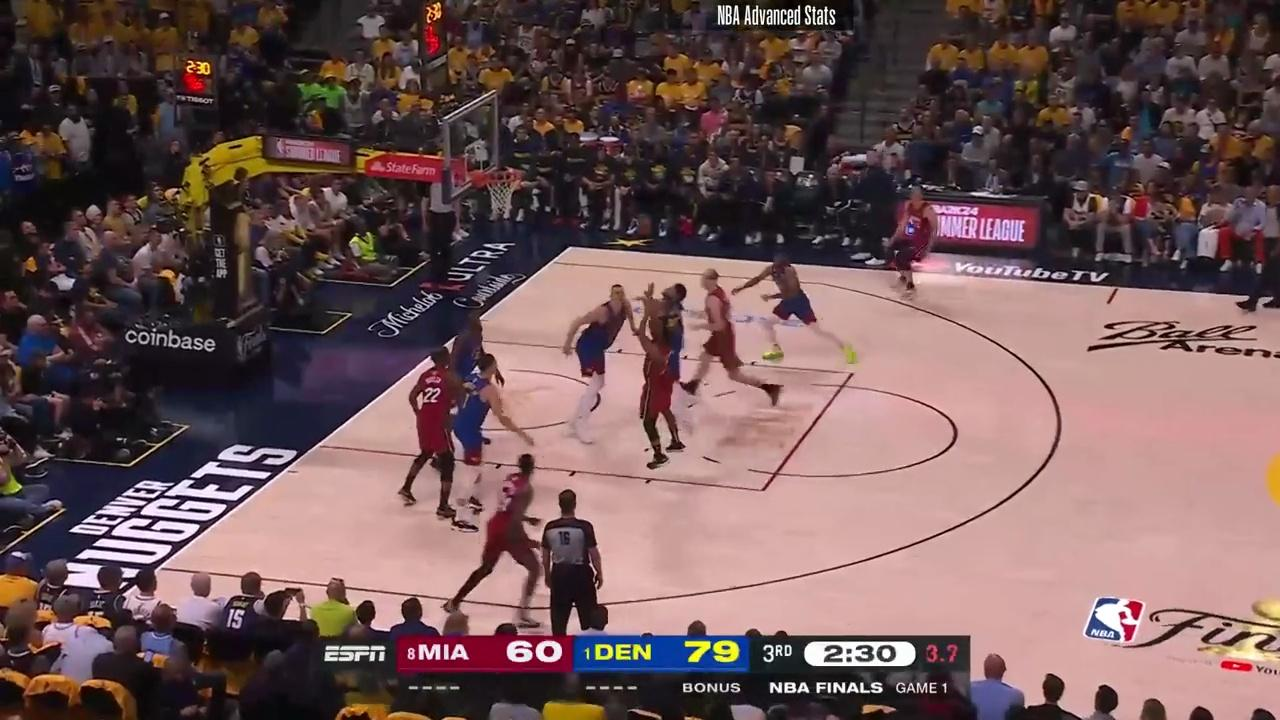Backboard: (447, 88, 494, 204)
Ball: (635, 215, 653, 239)
Basket: (483, 166, 527, 221)
Person: (462, 450, 553, 627), (396, 349, 475, 517), (752, 254, 859, 372), (452, 352, 527, 520), (694, 277, 778, 414), (559, 281, 628, 443), (632, 289, 683, 471), (653, 277, 700, 380), (445, 304, 488, 367)
Referee: (539, 483, 619, 636), (885, 183, 943, 299), (1245, 192, 1280, 318)
Shot Clock: (166, 55, 218, 124), (418, 0, 450, 69)
